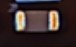COMP: (11, 7, 63, 35)
STAN: (6, 2, 18, 13)
